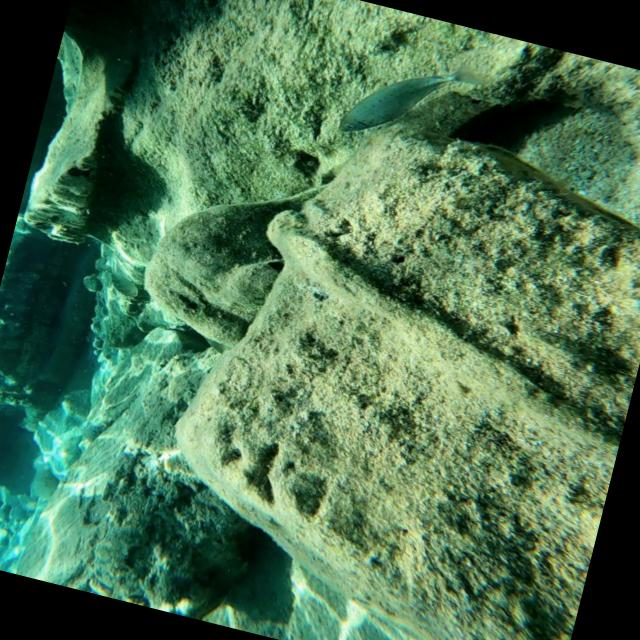Sokar Baligi: (325, 16, 498, 170)
